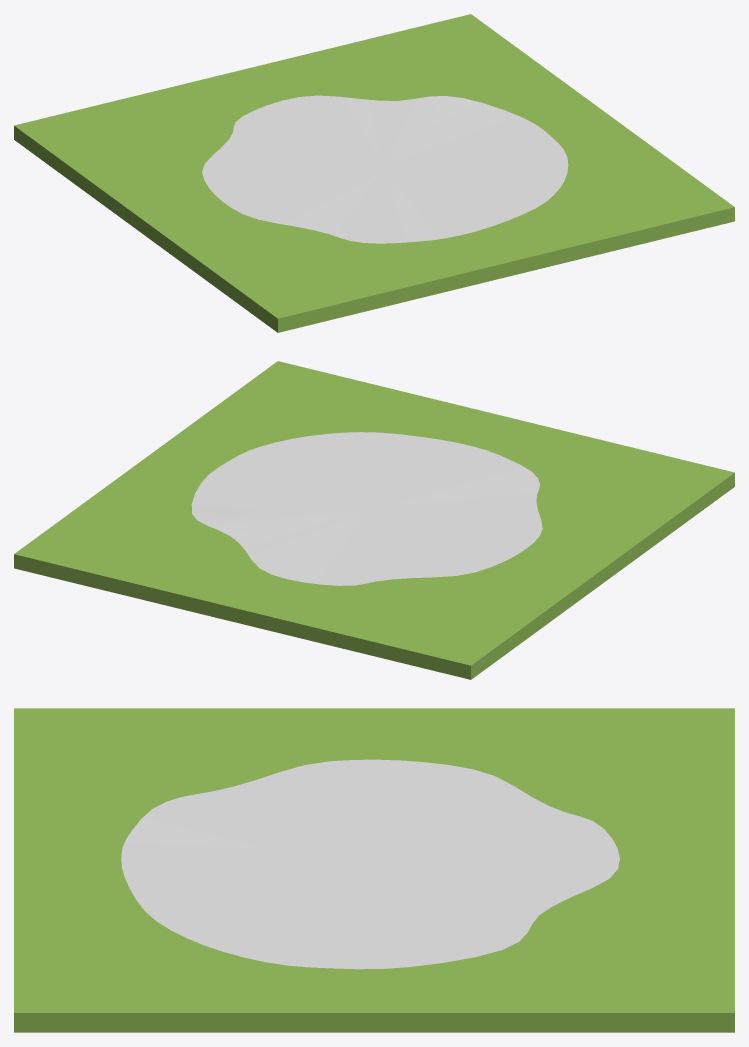
File: Puddle.fbx
3 views of the same model, one above another, from view 1: azimuth 30°, elevation 25°; view 2: azimuth 150°, elevation 25°; view 3: azimuth 270°, elevation 25° (orthographic). The views are drawn at different scales.
Parts seen in each view (by area): view 1: Cube.004; view 2: Cube.004; view 3: Cube.004.
Boxes of the visible parts, bbox=[...] form: Cube.004: bbox=[14, 14, 734, 332]; Cube.004: bbox=[14, 361, 734, 679]; Cube.004: bbox=[14, 708, 734, 1032].
Bounding box in the file's own units: 300 × 10 × 300.
